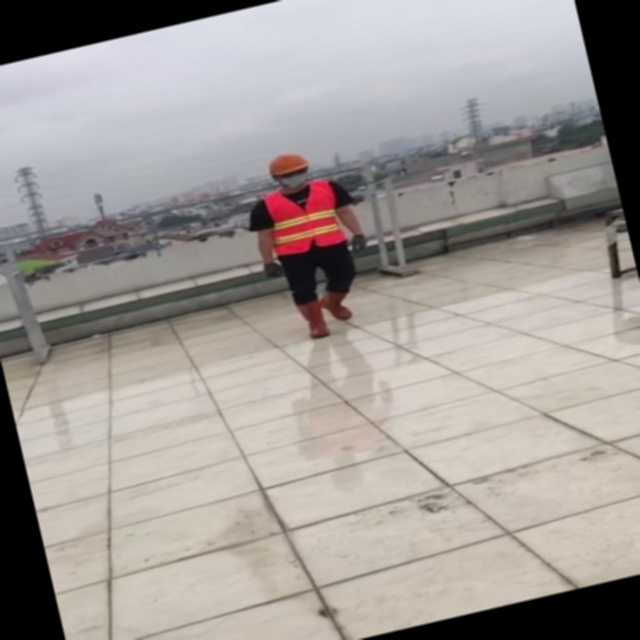boots: (322, 290, 357, 325), (295, 300, 324, 338)
gloves: (278, 251, 298, 272), (369, 246, 384, 265)
helmet: (303, 148, 347, 171)
vest: (289, 184, 366, 251)
